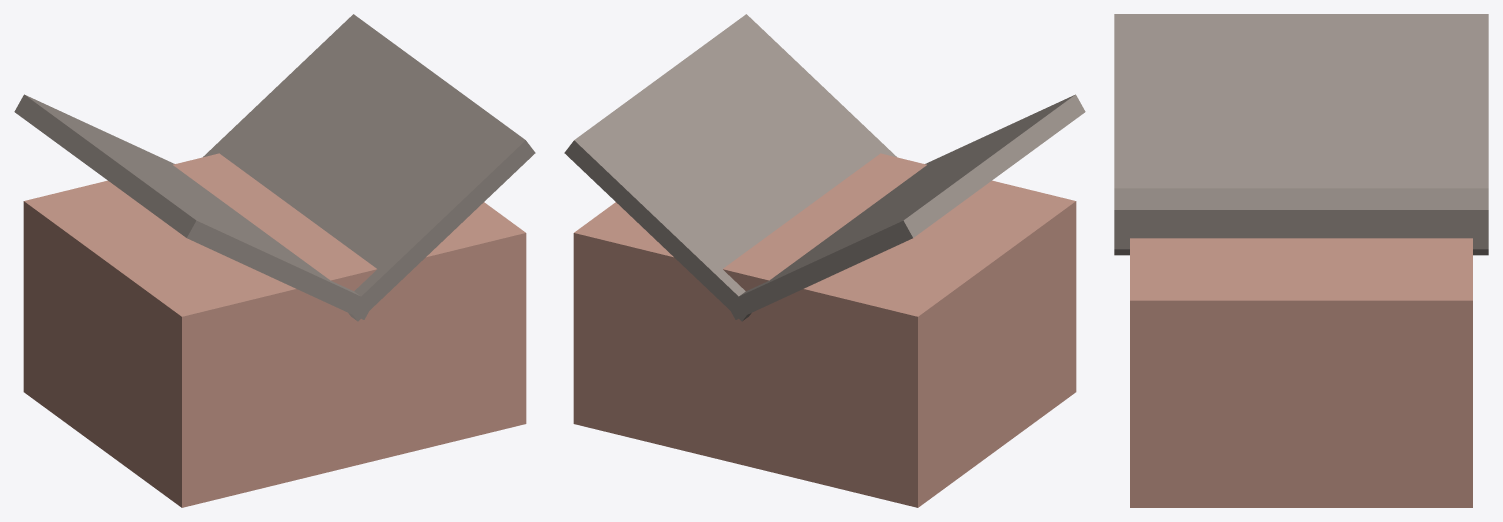
3 renders of one model, left to right at view 1: azimuth 30°, elevation 25°; view 2: azimuth 150°, elevation 25°; view 3: azimuth 270°, elevation 25°, orthographic. The views are drawn at different scales.
Parts seen in each view (by area): view 1: brick-walls, roof-right, roof-left; view 2: brick-walls, roof-right, roof-left; view 3: brick-walls, roof-left, roof-right.
Part boxes in pixels (bbox=[...]): brick-walls: bbox=[23, 153, 526, 507]; roof-right: bbox=[203, 14, 535, 321]; roof-left: bbox=[14, 94, 373, 319]; brick-walls: bbox=[573, 153, 1076, 507]; roof-right: bbox=[564, 14, 896, 321]; roof-left: bbox=[726, 94, 1085, 319]; brick-walls: bbox=[1130, 238, 1472, 507]; roof-left: bbox=[1114, 14, 1488, 255]; roof-right: bbox=[1114, 188, 1488, 249].
Bounding box in the file's own units: 9.94 × 7.91 × 8.5.
